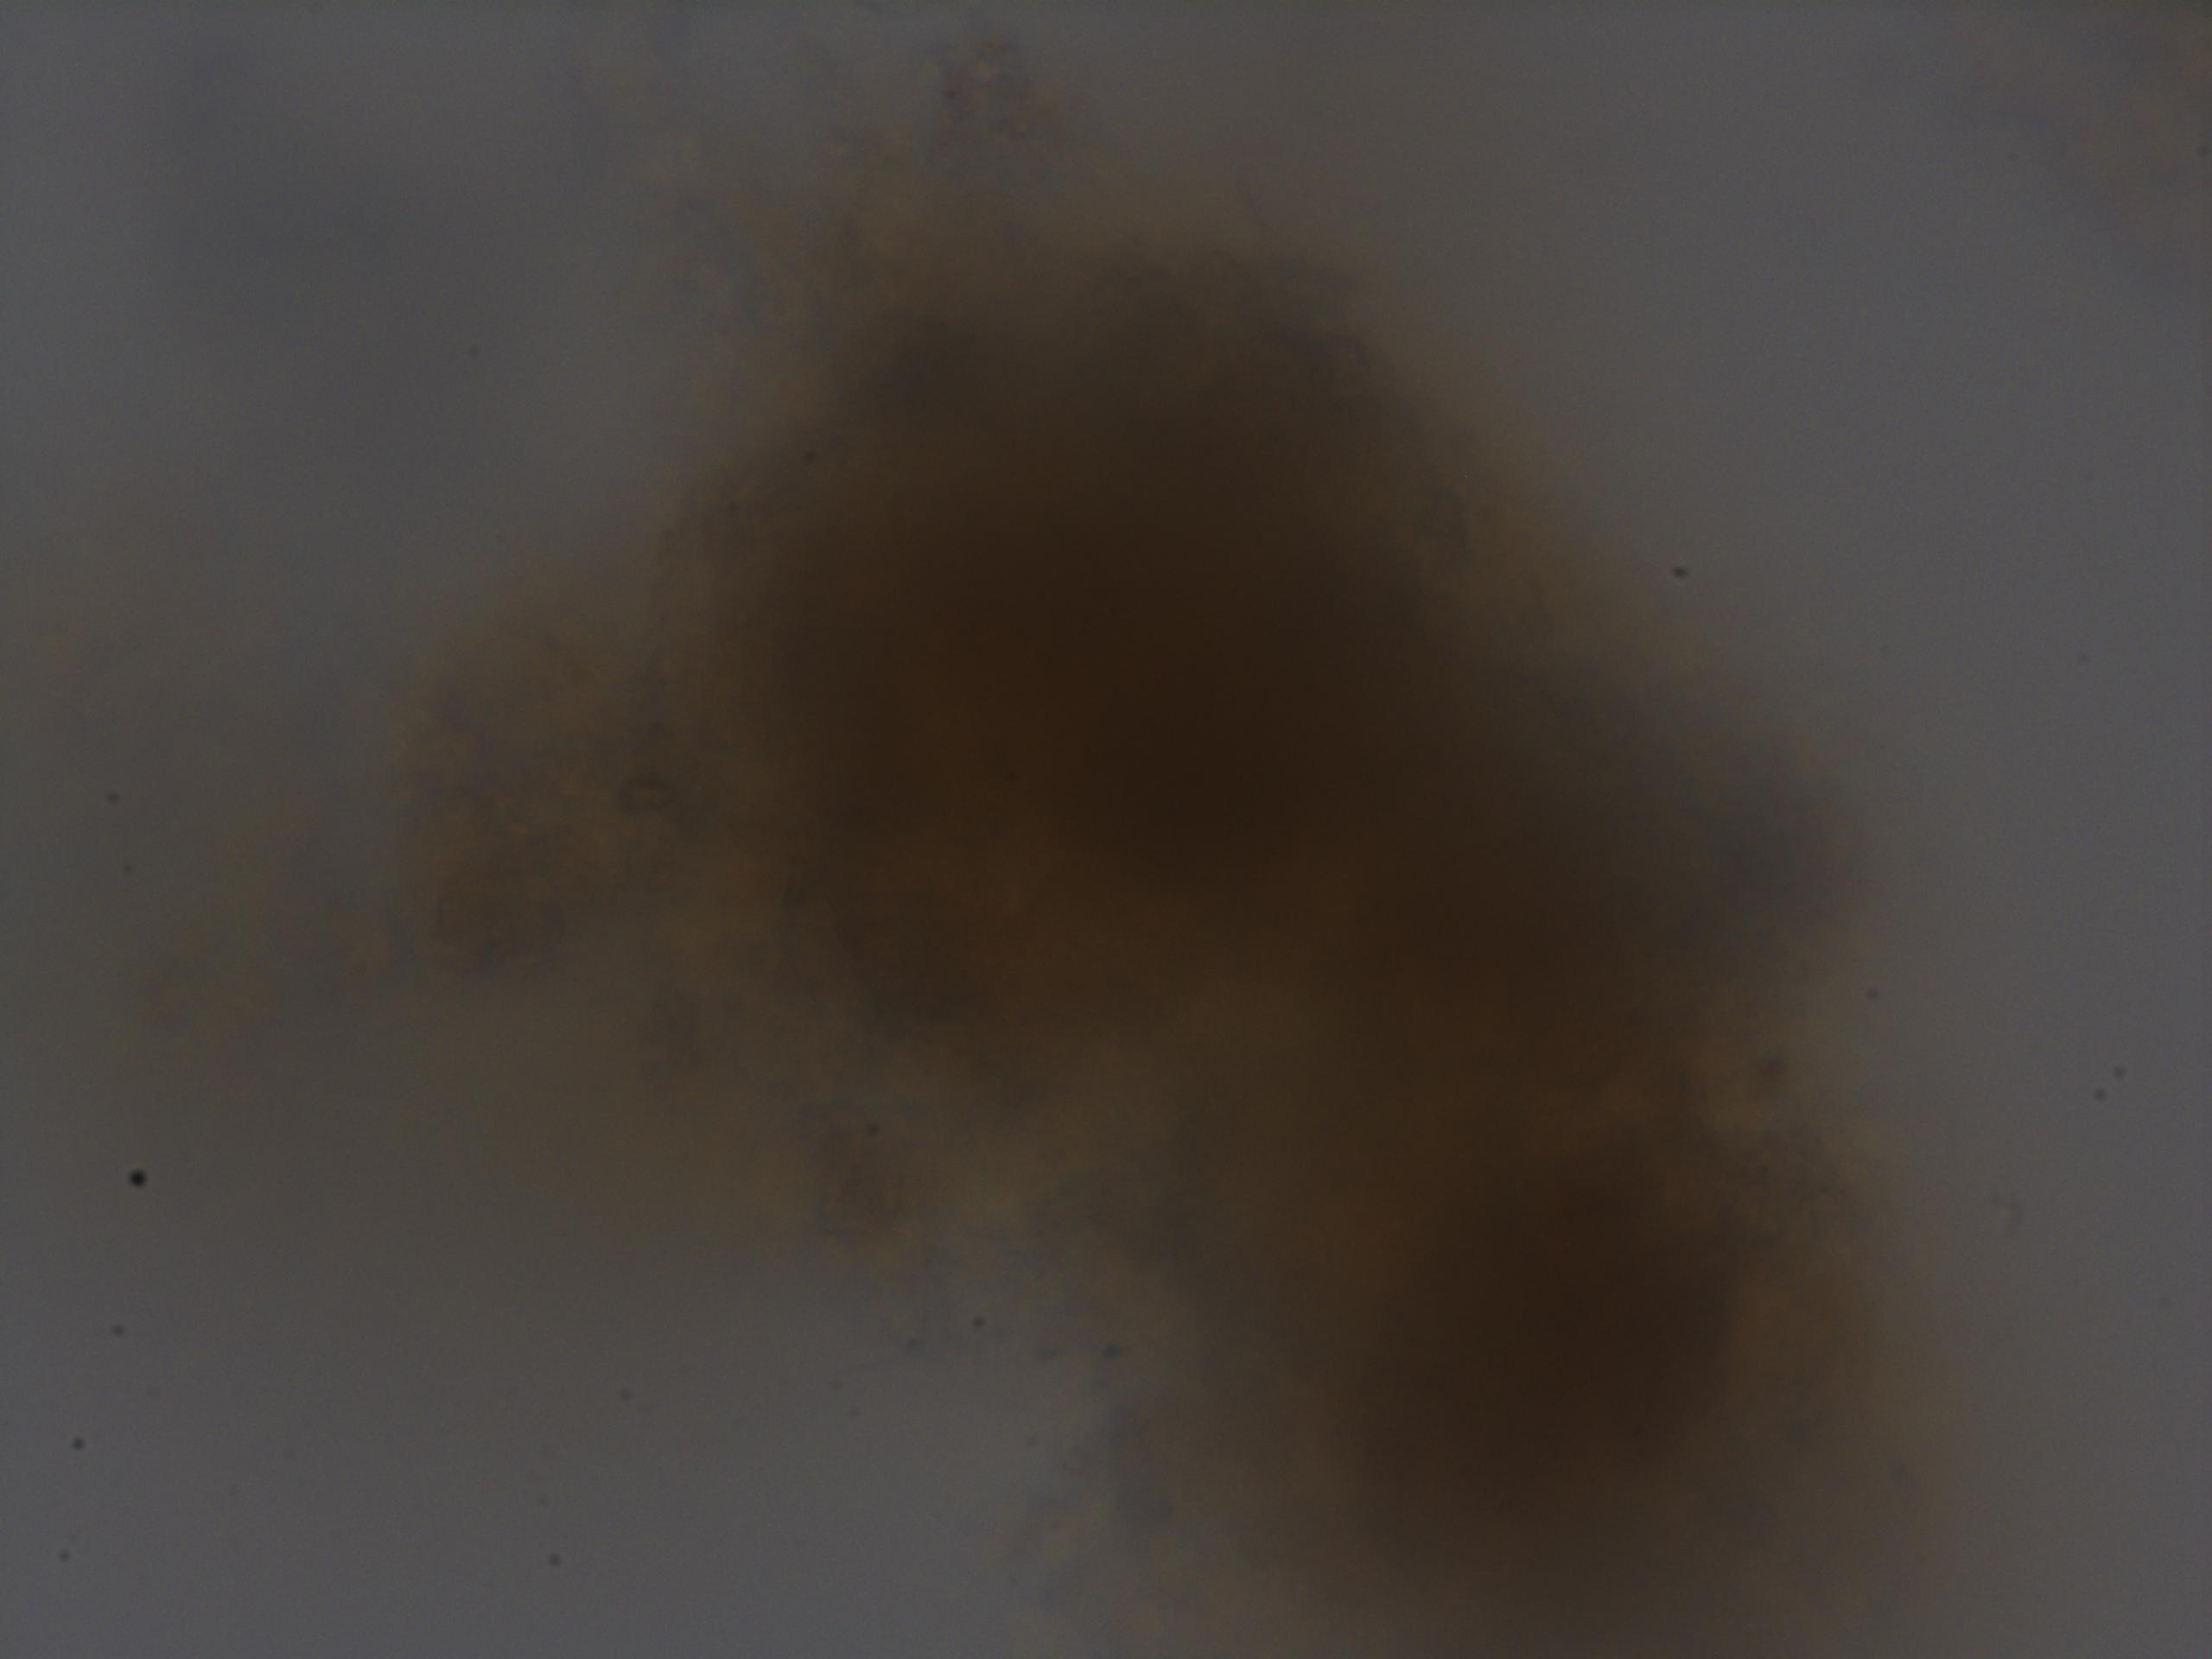spherical_floc: (559, 213, 1890, 1659)
